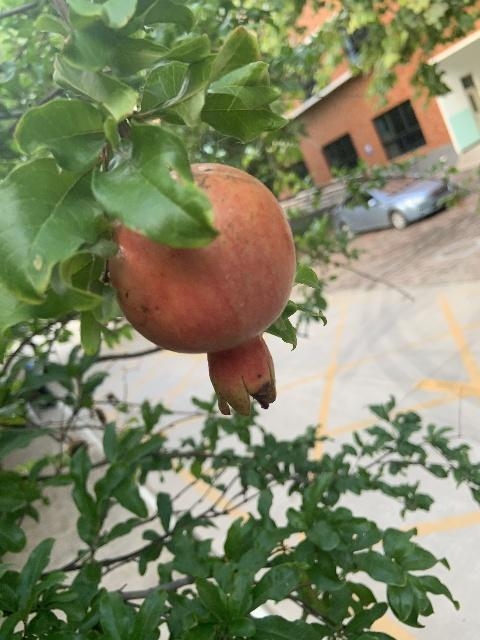ripe: (107, 163, 297, 417)
